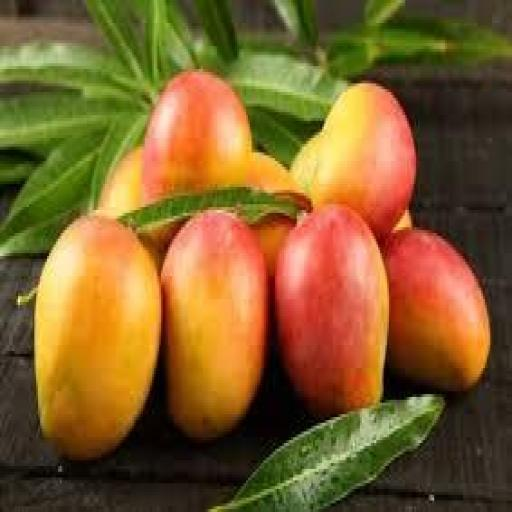mango: (35, 216, 161, 460), (162, 210, 267, 440), (275, 205, 388, 417), (384, 231, 490, 391)
